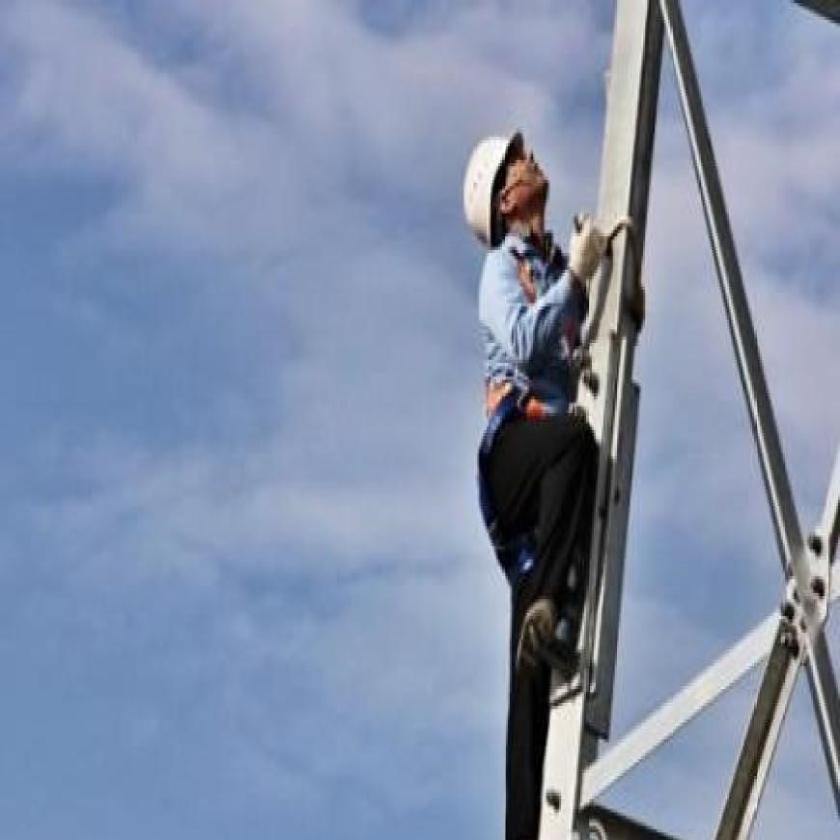Con_casco: (448, 118, 557, 255)
